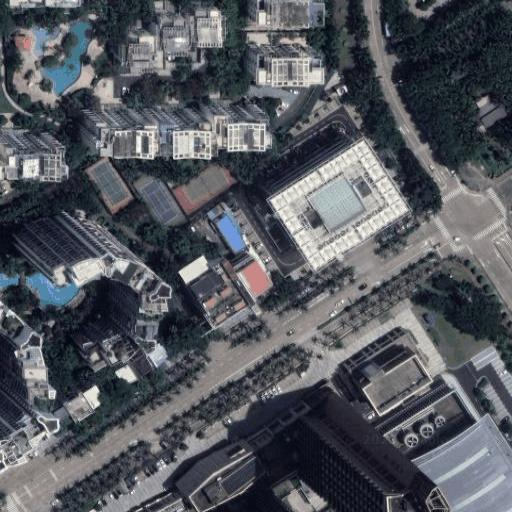building: (132, 386, 360, 512), (258, 132, 387, 254), (30, 231, 150, 346), (362, 369, 475, 469), (402, 413, 512, 512), (80, 102, 252, 143), (0, 302, 38, 446), (285, 407, 349, 487), (175, 440, 253, 502), (356, 345, 426, 406), (76, 151, 135, 216), (350, 332, 427, 378), (51, 385, 105, 429), (114, 343, 169, 386), (245, 40, 311, 74), (229, 250, 267, 291), (224, 262, 255, 308), (214, 212, 248, 253), (118, 30, 156, 66), (185, 4, 218, 42), (155, 13, 186, 52), (234, 489, 283, 512), (245, 0, 313, 15), (184, 268, 218, 298), (176, 255, 209, 283), (245, 31, 306, 41), (481, 106, 506, 129), (476, 100, 499, 119), (8, 0, 46, 7), (476, 94, 492, 109), (45, 0, 80, 6)
